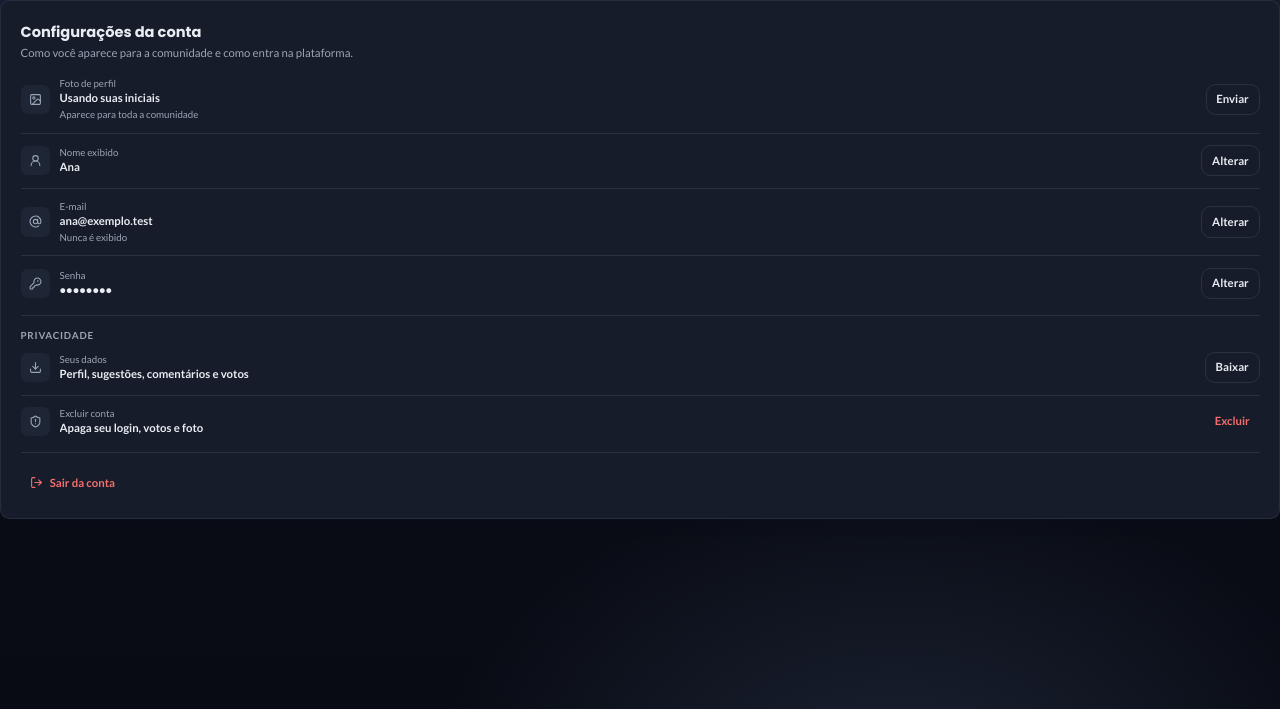
Scenario: Configurações da conta: senha › confere a senha atual e troca a senha
The width and height of the screenshot is (1280, 709).
Click the button "Alterar" in the row of "Senha": (1230, 283) 1201,268 -> 1260,299
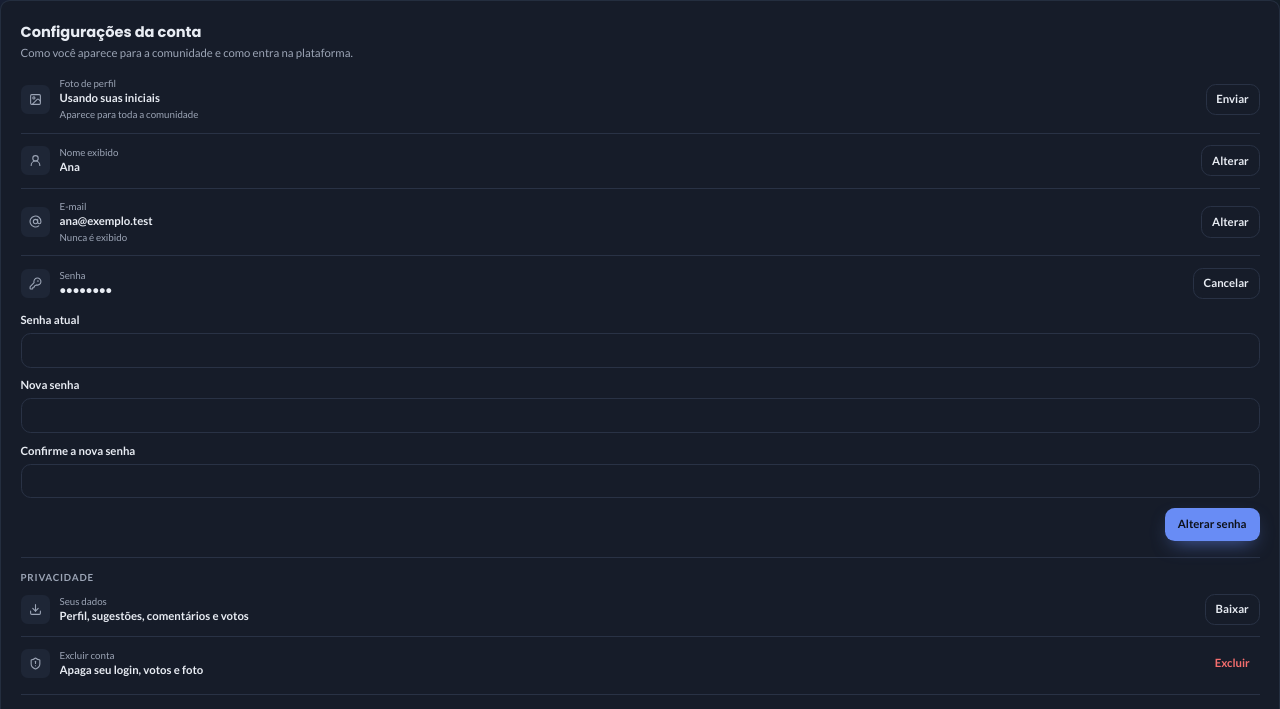
In the password field labelled "Senha atual": (640, 350) 20,333 -> 1260,368, type "senha-antiga"
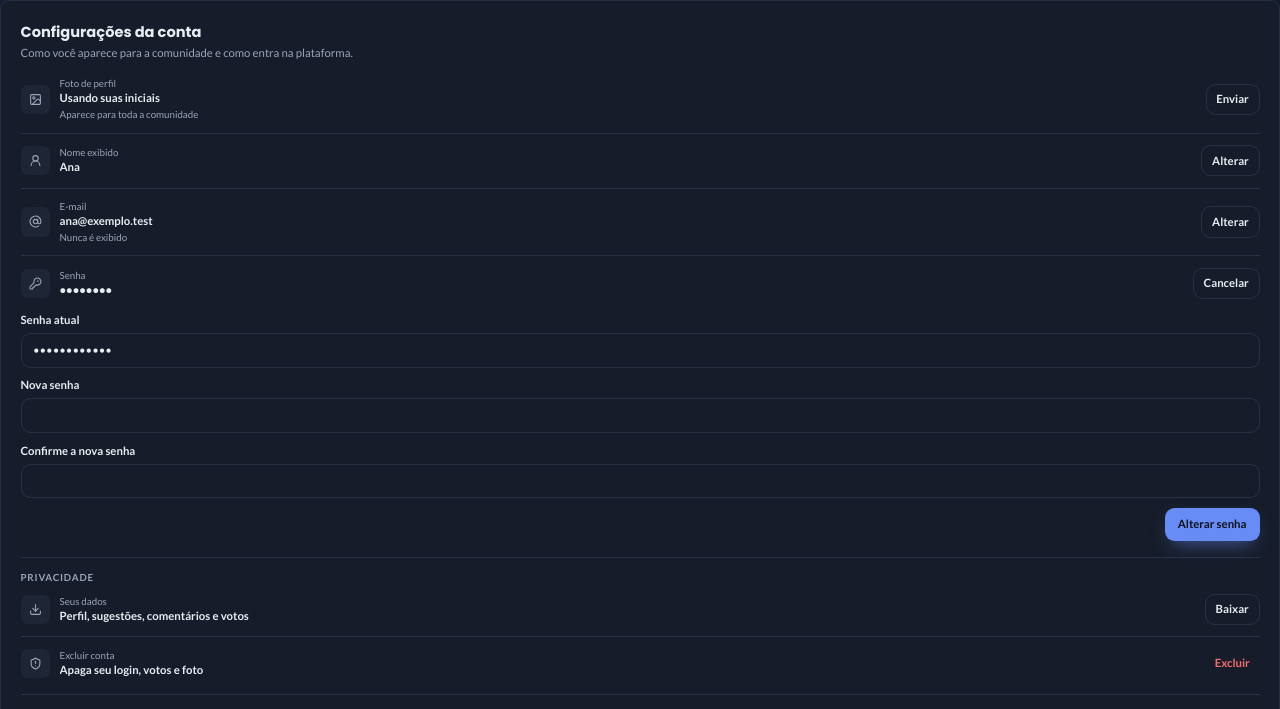
In the password field labelled "Nova senha": (640, 416) 20,398 -> 1260,433, type "senha-nova-123"
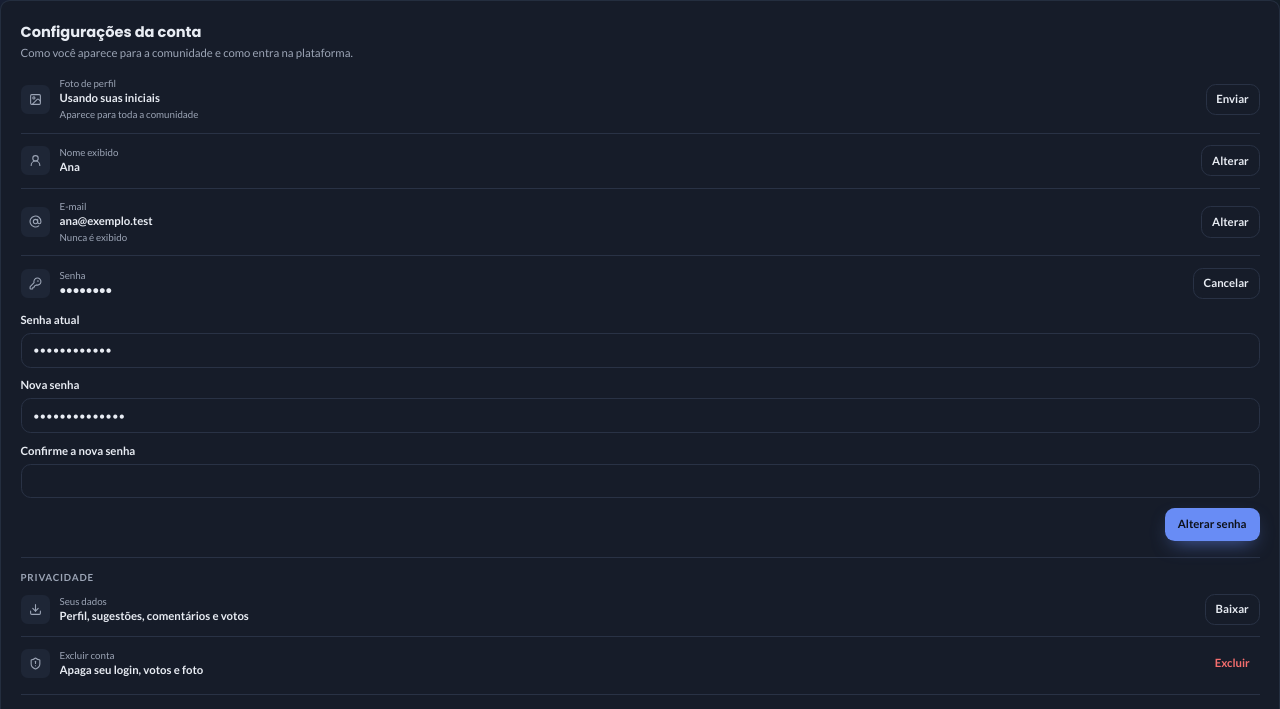
In the password field labelled "Confirme a nova senha": (640, 481) 20,464 -> 1260,498, type "senha-nova-123"
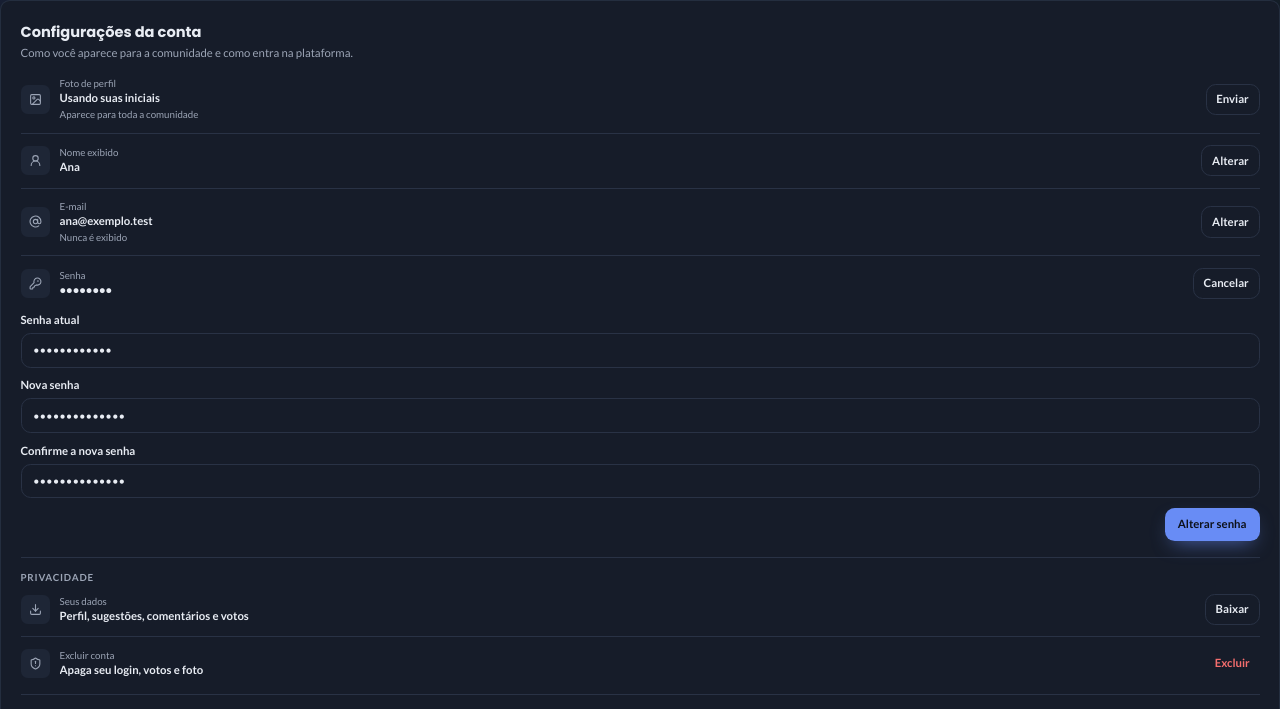
Click the button "Alterar senha": (1212, 524) 1165,508 -> 1260,540
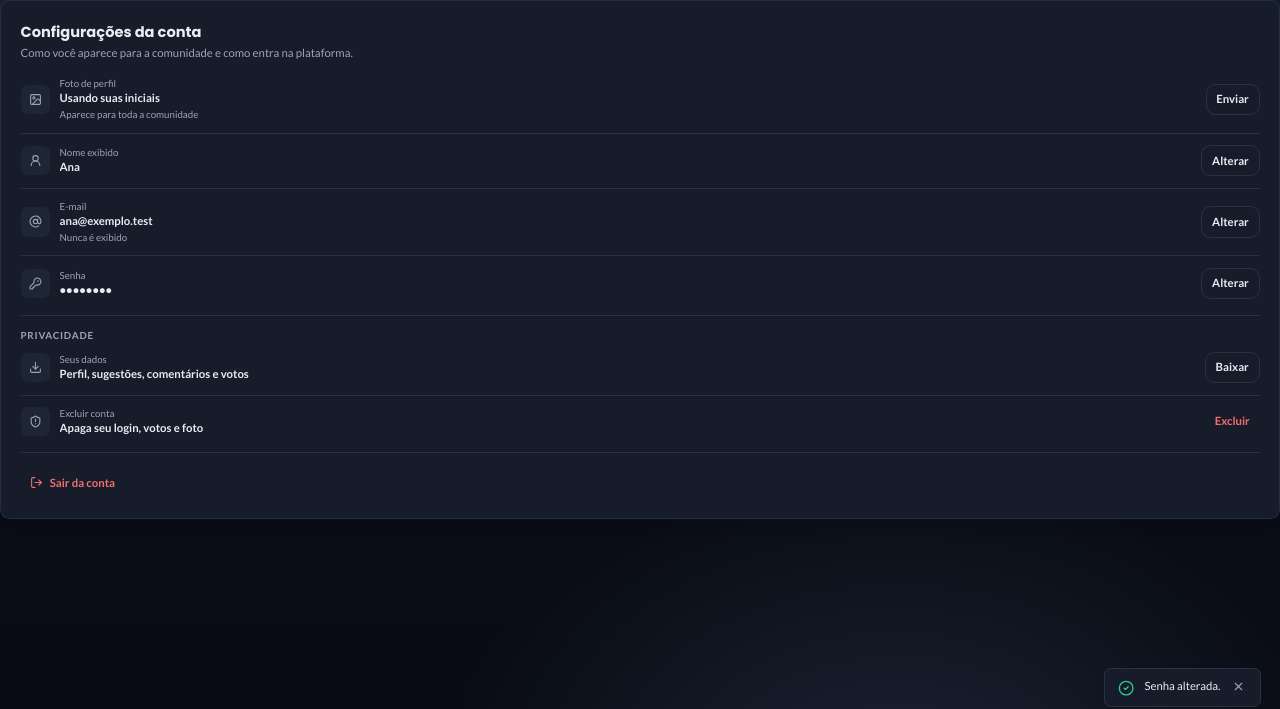
Now the text "Senha alterada." is shown, box 1144,678 -> 1220,695
Now the label labelled "Nova senha" is gone
